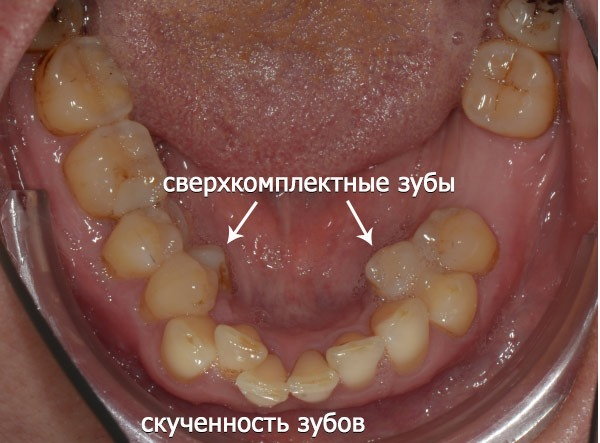LL1BC_decay: (370, 251, 478, 330)
LL1M_decay: (460, 129, 528, 216)
LL2BC_decay: (419, 207, 498, 271)
LL2M_decay: (473, 46, 554, 135)
LLCI_decay: (290, 352, 337, 402)
LLC_decay: (372, 298, 428, 359)
LLLI_decay: (328, 334, 381, 384)
LR1BC_decay: (148, 250, 219, 316)
LR1M_decay: (61, 134, 163, 210)
LR2BC_decay: (106, 216, 181, 274)
LR2M_decay: (35, 36, 132, 129)
LRCI_healthy: (241, 364, 287, 408)
LRC_decay: (164, 319, 214, 376)
LRLI_decay: (216, 324, 267, 371)
